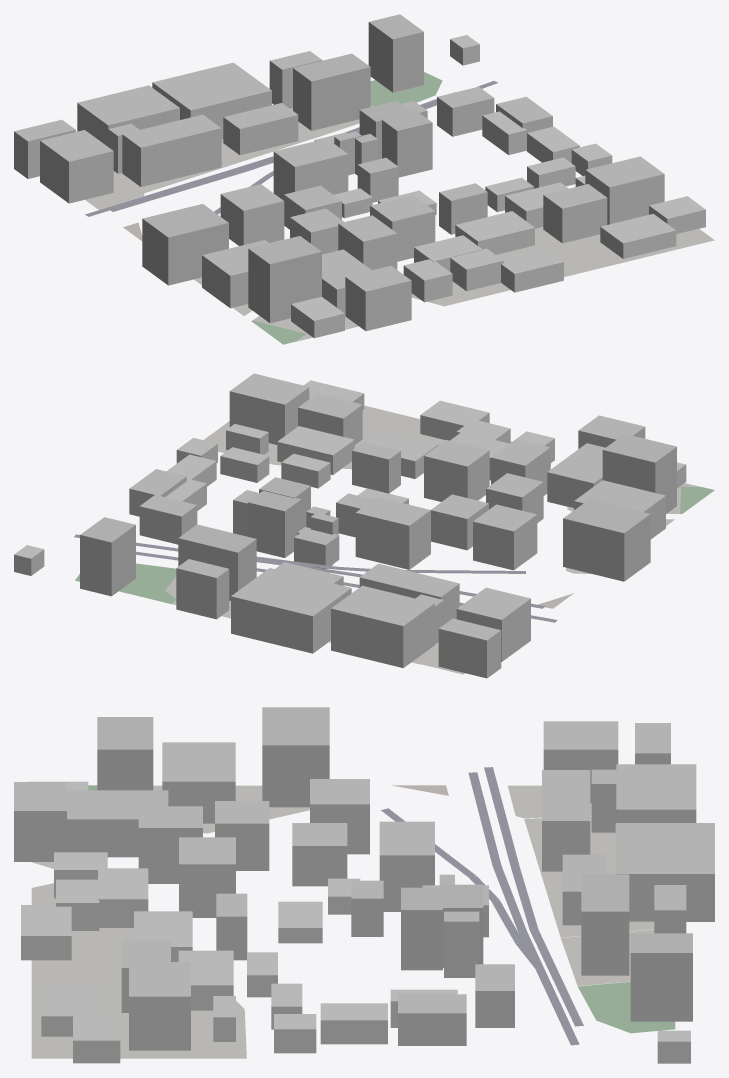
File: 108_104_mid.glb
3 renders of one model, top to bottom at view 1: azimuth 30°, elevation 25°; view 2: azimuth 150°, elevation 25°; view 3: azimuth 270°, elevation 25°, orthographic. The views are drawn at different scales.
Bounding box in the file's own units: 538 × 66.46 × 544.
